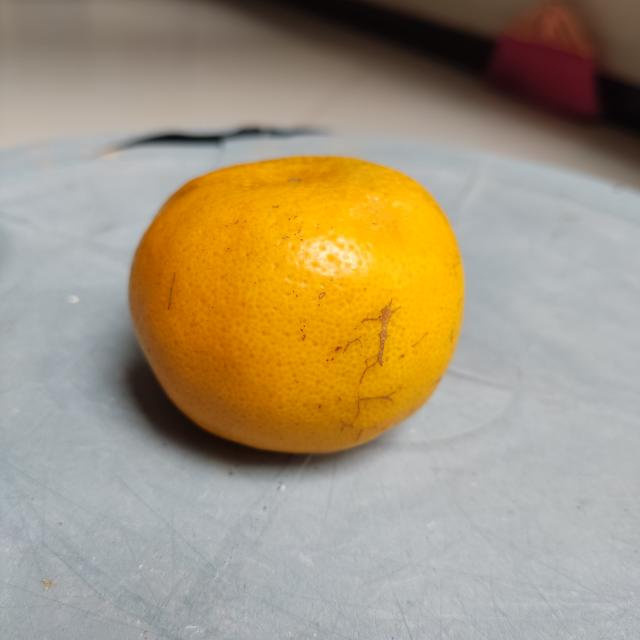orange: (124, 152, 471, 456)
